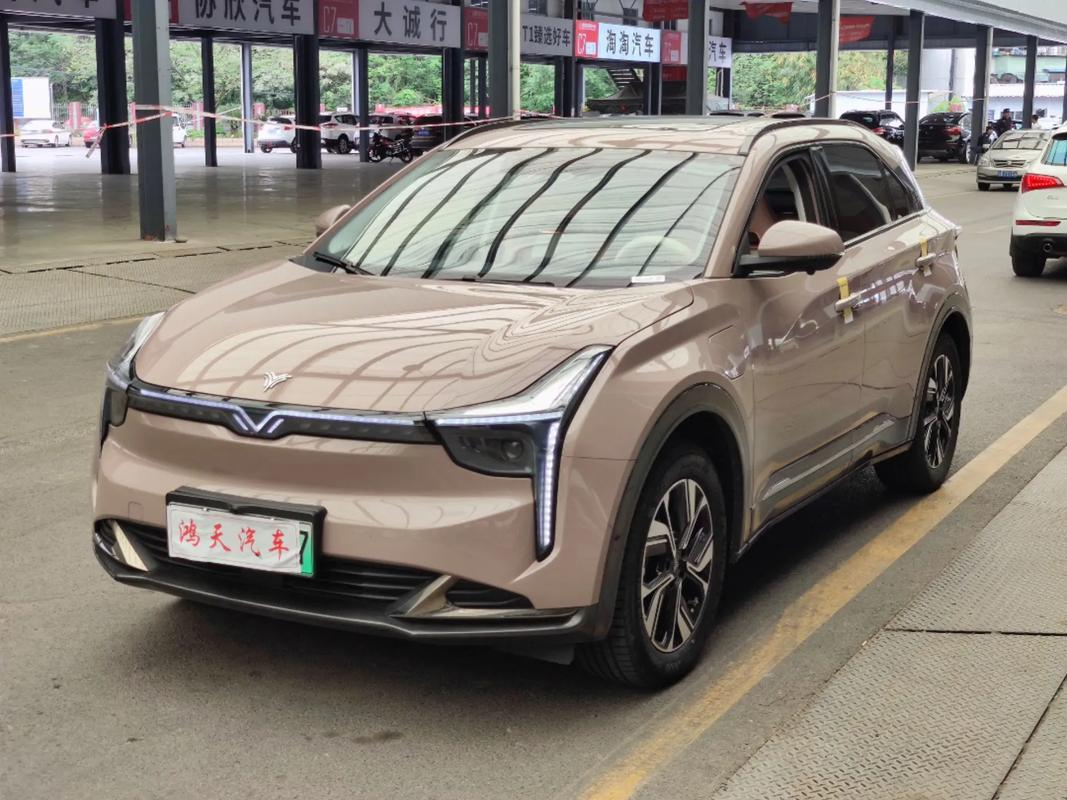NETA: (260, 370, 292, 393)
